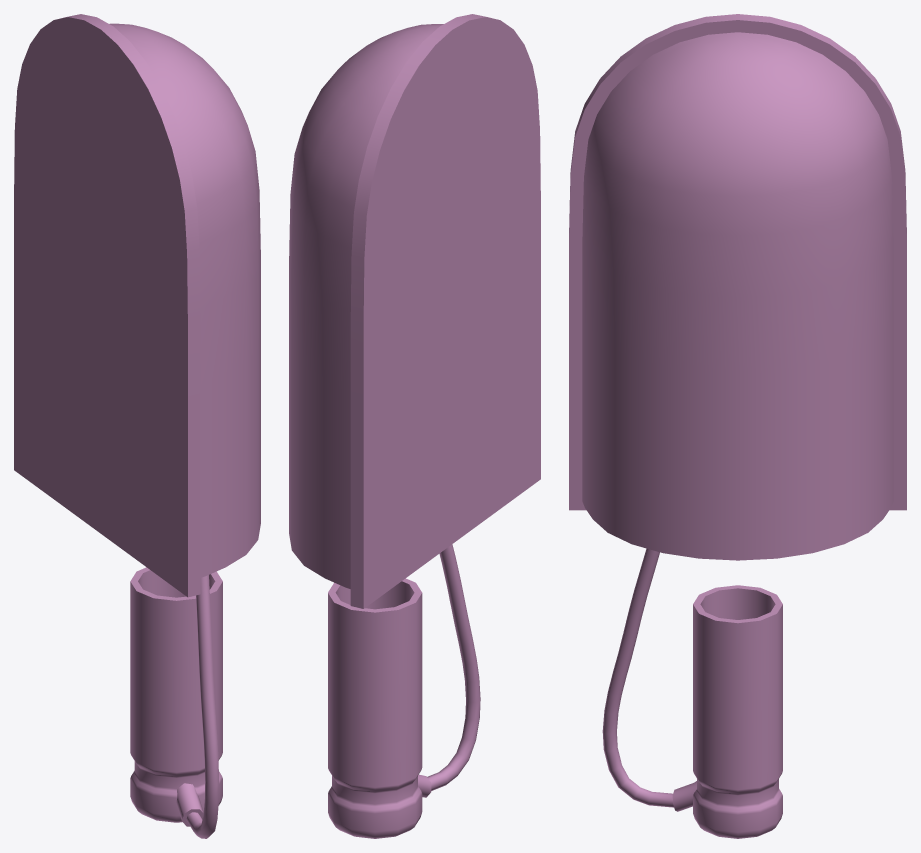
The model's file is FHXY_02BX_A19_JinQiKou_MD_L.fbx.
The picture shows the model from 3 angles, left to right: view 1: azimuth 30°, elevation 25°; view 2: azimuth 150°, elevation 25°; view 3: azimuth 270°, elevation 25°; orthographic projection. The views are drawn at different scales.
Visible parts, largest first — view 1: FHXY_02BX_A19_JinQiKou_MD_L01, FHXY_02BX_A19_JinQiKou_MD_L02; view 2: FHXY_02BX_A19_JinQiKou_MD_L01, FHXY_02BX_A19_JinQiKou_MD_L02; view 3: FHXY_02BX_A19_JinQiKou_MD_L01, FHXY_02BX_A19_JinQiKou_MD_L02.
Part boxes in pixels (x1,y1,x2,y2): FHXY_02BX_A19_JinQiKou_MD_L01: (14,14,260,597); FHXY_02BX_A19_JinQiKou_MD_L02: (130,567,222,838); FHXY_02BX_A19_JinQiKou_MD_L01: (289,14,540,608); FHXY_02BX_A19_JinQiKou_MD_L02: (328,544,480,838); FHXY_02BX_A19_JinQiKou_MD_L01: (569,14,906,560); FHXY_02BX_A19_JinQiKou_MD_L02: (602,548,782,838).
Bounding box in the file's own units: 2.64 × 14.65 × 5.8.
